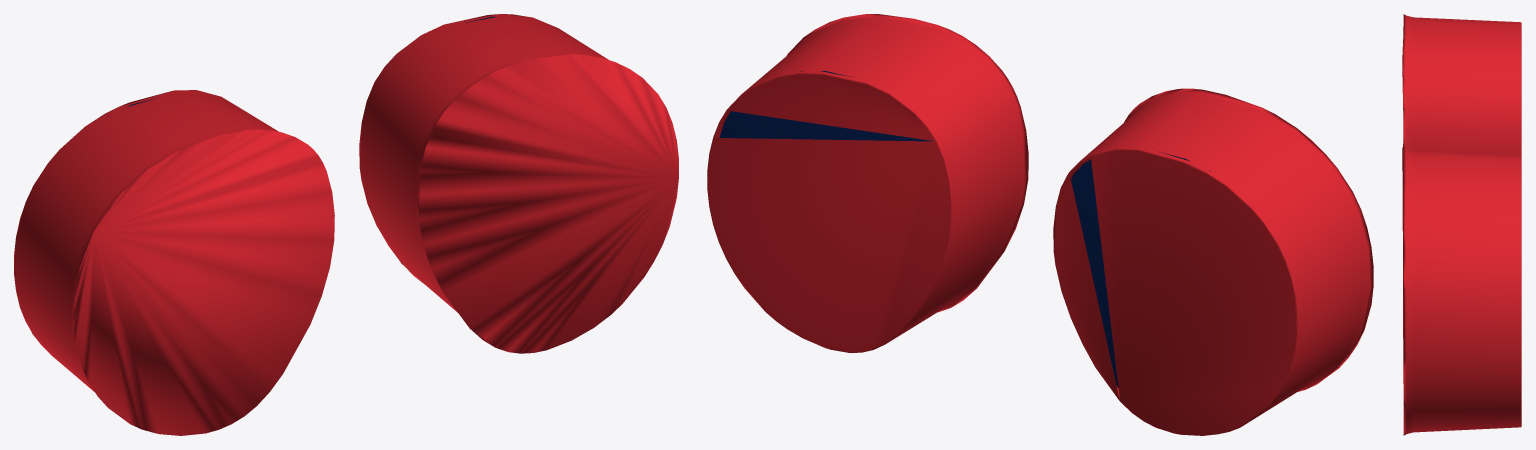
Rendered from lens.fbx.
3 renders of one model, left to right at view 1: azimuth 30°, elevation 25°; view 2: azimuth 150°, elevation 25°; view 3: azimuth 270°, elevation 25°, orthographic. The views are drawn at different scales.
Parts seen in each view (by area): view 1: lenses; view 2: lenses; view 3: lenses.
Boxes of the visible parts, x1,y1,x2,y2 form: lenses: (14, 14, 678, 435); lenses: (707, 14, 1373, 435); lenses: (1402, 14, 1521, 435).
Bounding box in the file's own units: 93.5 × 43.49 × 18.32.
